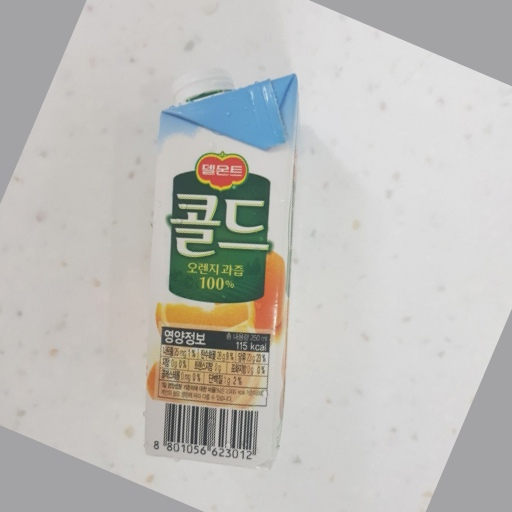Paper_0: (135, 77, 298, 474)
